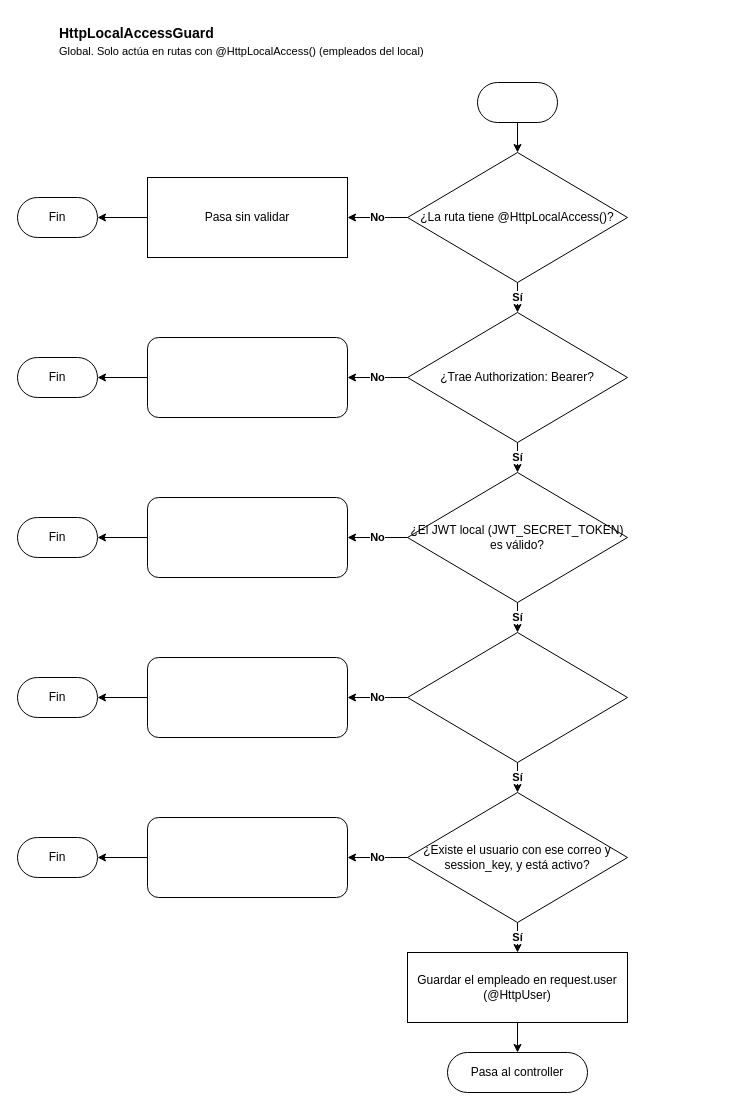
Some shapes in this 755 by 1110 pixel diagram are drawn without their labels. Each missing label, with the centre of its shape:
Falta el token (401) ERROR_MISSING_TOKEN: pixel 247 377
Inicio: pixel 517 102
No autorizado (401) ERROR_UNAUTHORIZED: pixel 247 857
Token inválido (401) ERROR_INVALID_ACCESS_TOKEN: pixel 247 537
Token vencido (401) ERROR_EXPIRED_TOKEN: pixel 247 697
¿Sigue vigente?: pixel 517 697
